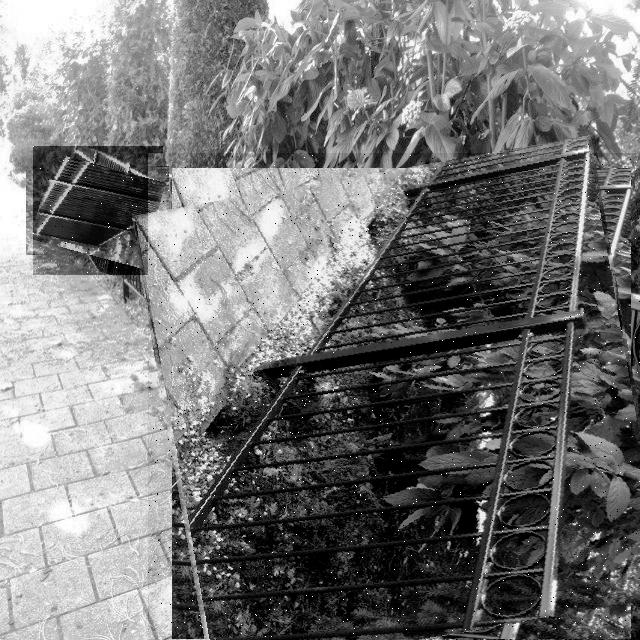fences: (148, 153, 640, 640), (33, 146, 163, 275)
